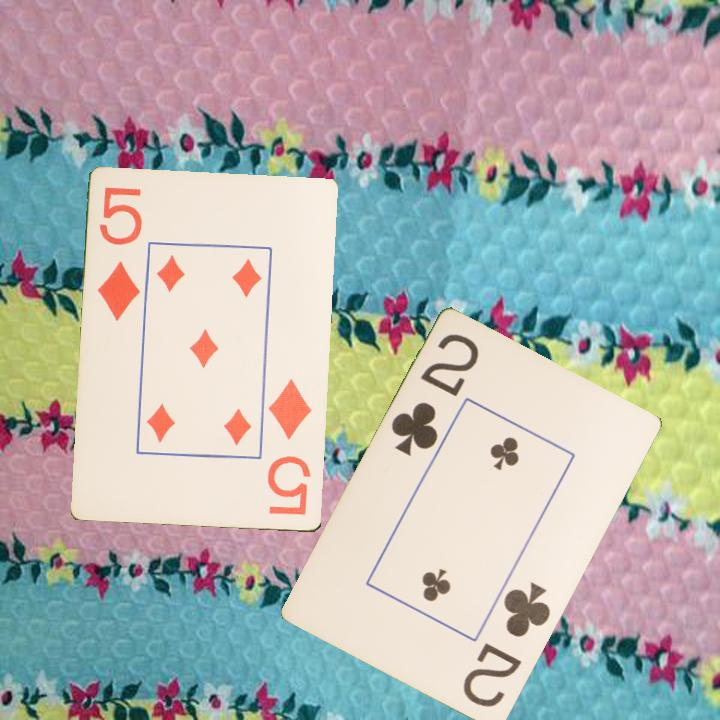2c: (459, 579, 554, 711), (387, 330, 482, 459)
5d: (264, 375, 316, 519), (94, 183, 146, 324)
